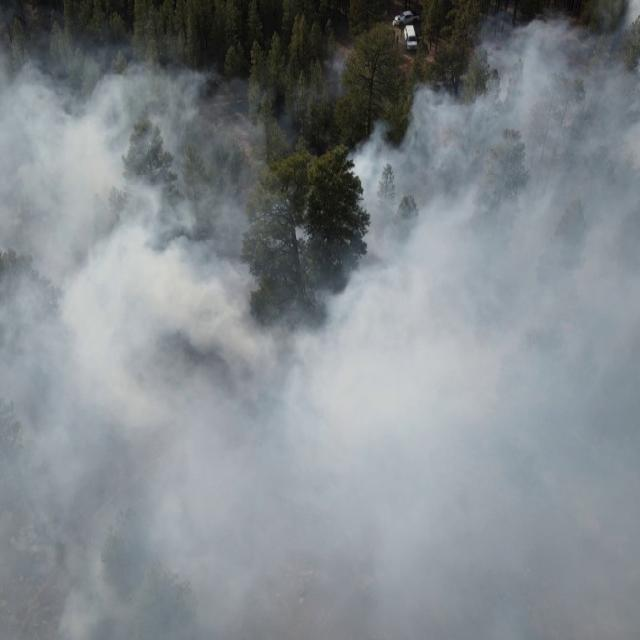smoke: (0, 64, 280, 640), (352, 126, 640, 640), (280, 186, 350, 640), (479, 0, 640, 84), (409, 84, 640, 127), (0, 0, 122, 64), (323, 53, 352, 98)
